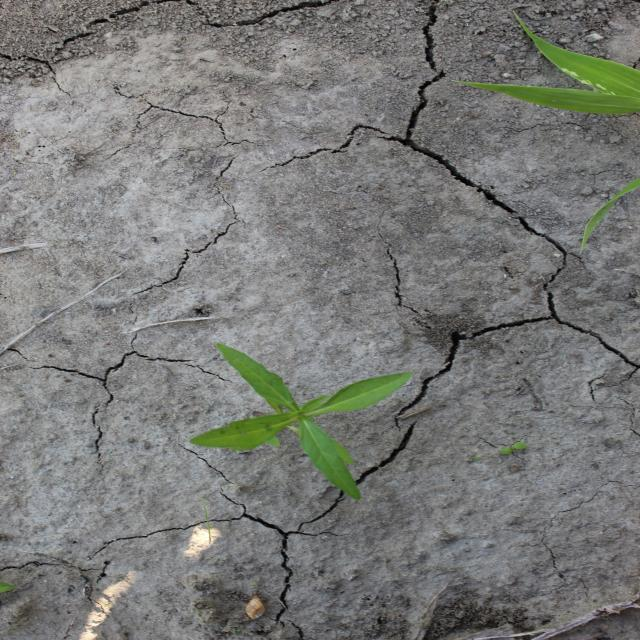Eclipta: (186, 341, 417, 503)
